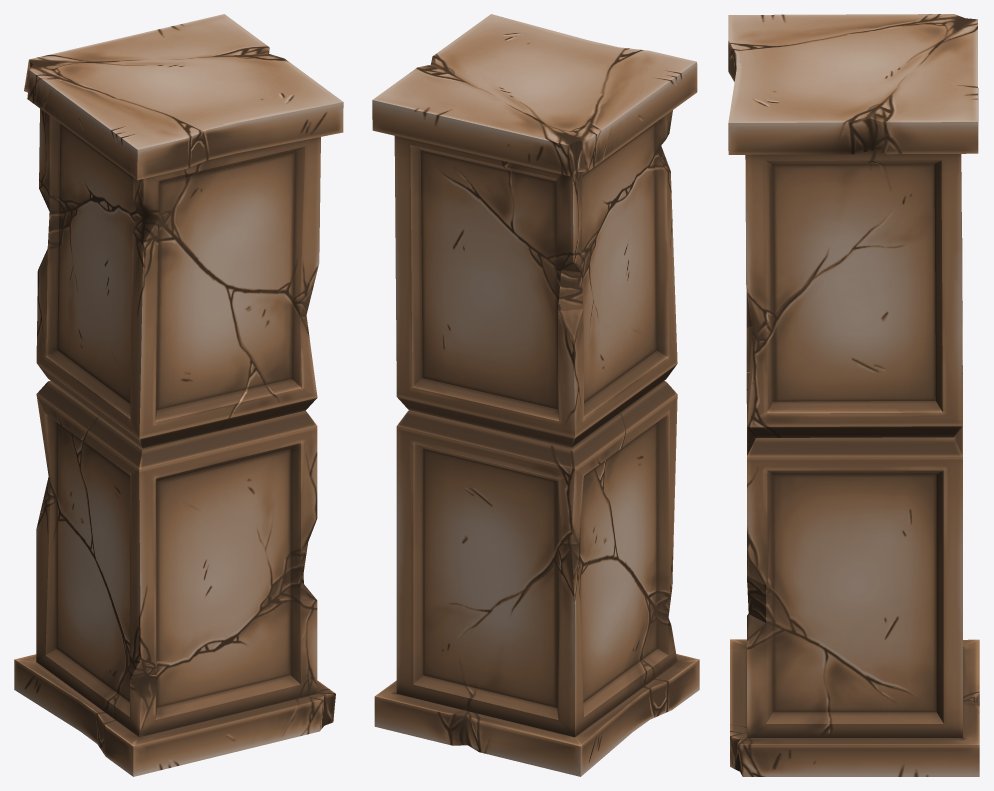
File: colonne_01.fbx
The picture shows the model from 3 angles, left to right: view 1: azimuth 30°, elevation 25°; view 2: azimuth 150°, elevation 25°; view 3: azimuth 270°, elevation 25°; orthographic projection. The views are drawn at different scales.
Parts seen in each view (by area): view 1: haut, bas; view 2: haut, bas; view 3: haut, bas.
Part boxes in pixels (x1=…): haut: x1=24, y1=14, x2=343, y2=448; bas: x1=14, y1=380, x2=335, y2=776; haut: x1=372, y1=14, x2=697, y2=447; bas: x1=374, y1=381, x2=699, y2=776; haut: x1=728, y1=14, x2=978, y2=437; bas: x1=730, y1=365, x2=979, y2=776.
Bounding box in the file's own units: 50.31 × 144 × 49.87.
